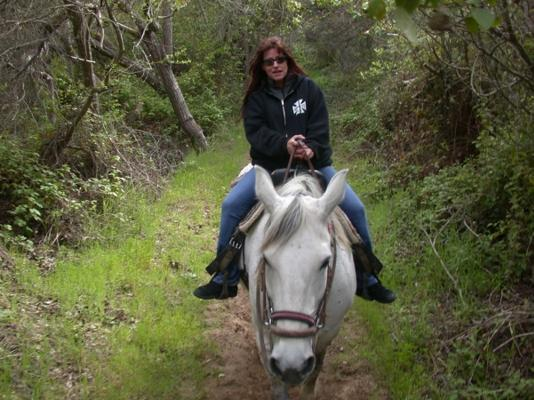person: (193, 36, 398, 305)
